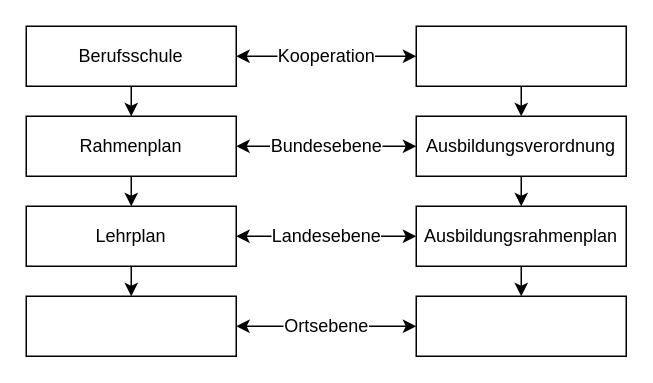
The diagram is 653 pixels wide and 383 high, and some of its shapes have lost their labels. Here are the shapes that lost their labels. From the top down, the box of each, then its label:
(415, 25, 626, 86): Ausbildungsbetrieb
(25, 295, 236, 356): Stoffverteilungsplan
(415, 295, 626, 356): Ausbildungsplan
